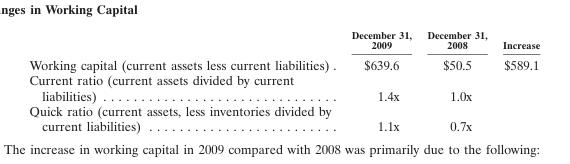table: (28, 28, 539, 133)
table column: (28, 28, 343, 133), (418, 28, 494, 133), (343, 28, 418, 133), (494, 28, 539, 133)
table column header: (28, 28, 539, 53)
table row: (28, 102, 539, 133), (28, 72, 539, 102), (28, 28, 539, 53), (28, 53, 539, 72)
